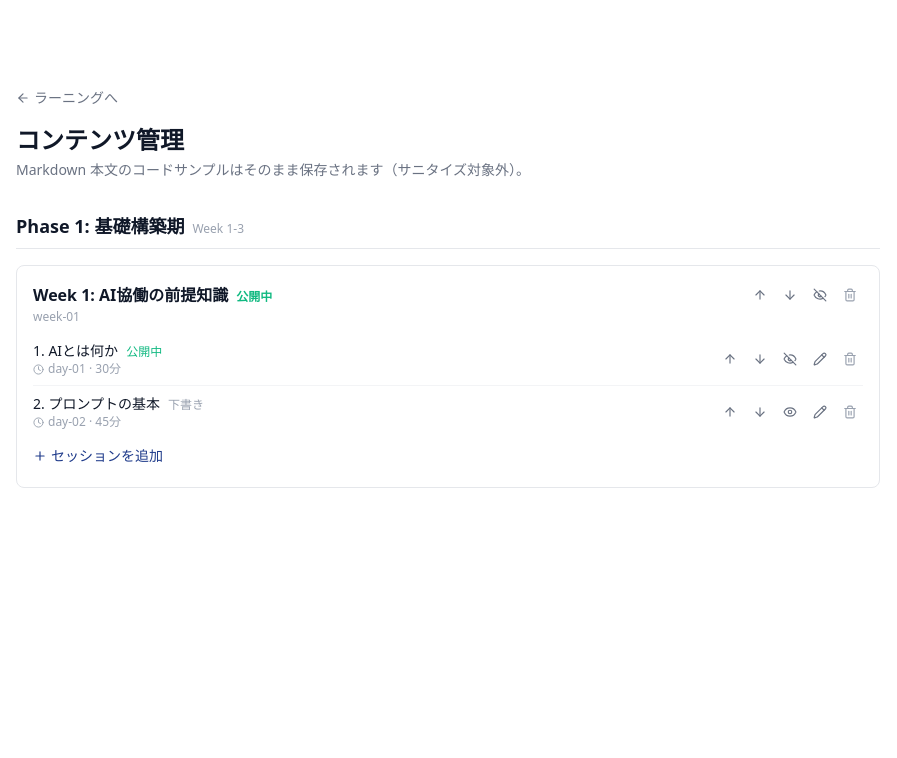
Test: LearningAdminPage › renders the markdown preview inside the editor
Click the button named "AIとは何か を編集".
click(820, 359)  # box [807,346,833,372]
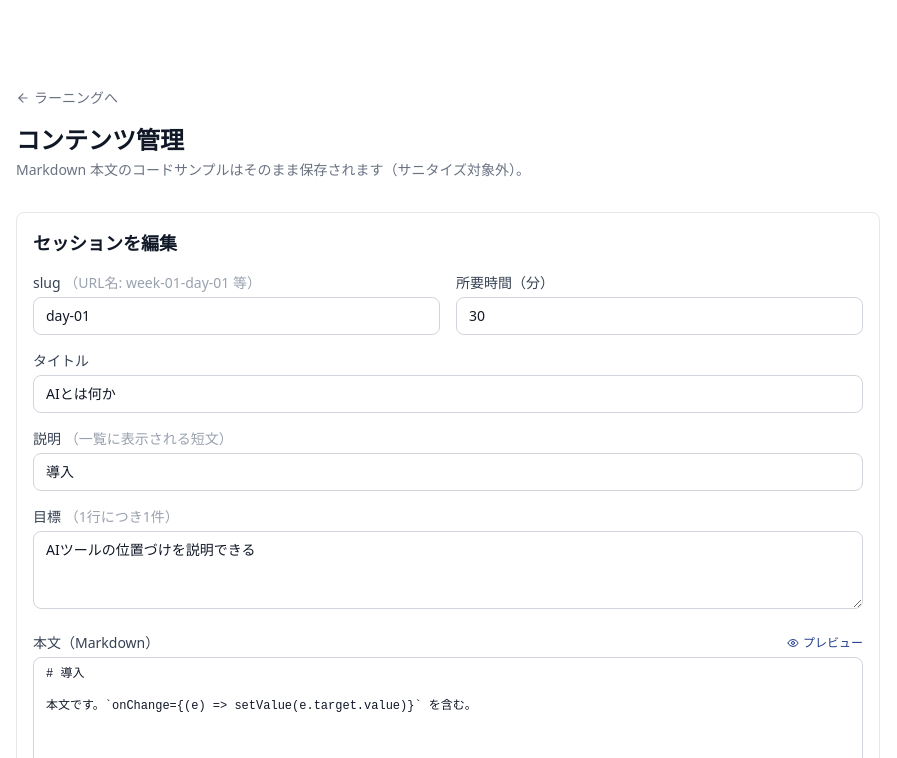
Click the button "プレビュー".
click(825, 643)  # box [787,635,863,651]
(page scrolled)
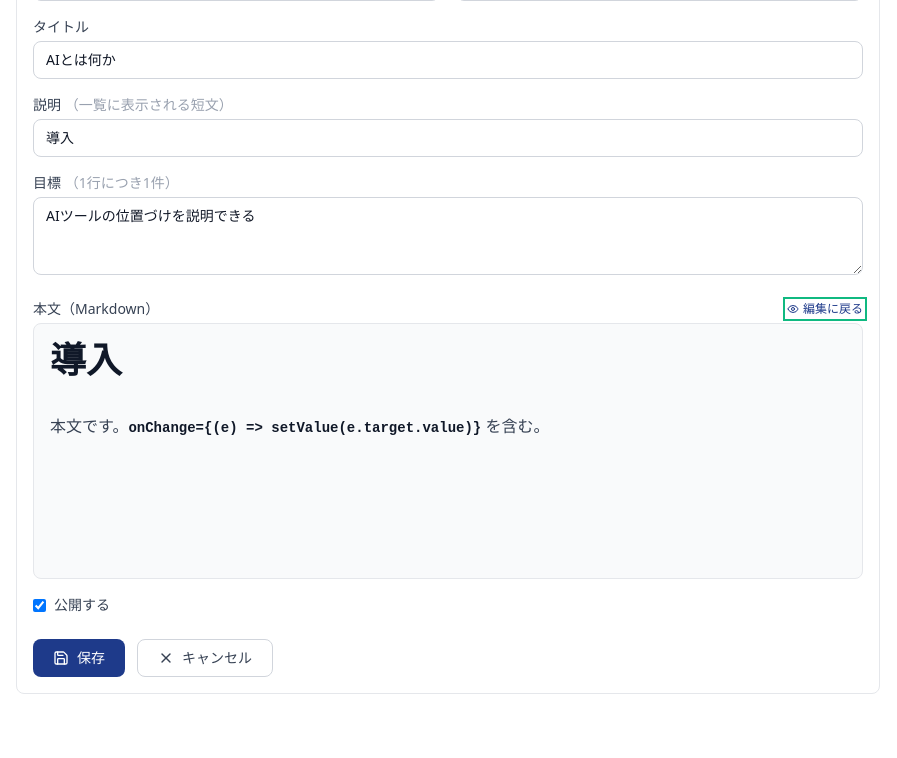
Expected: the heading "導入" is shown, [50,335,122,384]
Expected: the text "onChange={(e) => setValue(e.target.value)}" is shown, [128,420,481,436]
